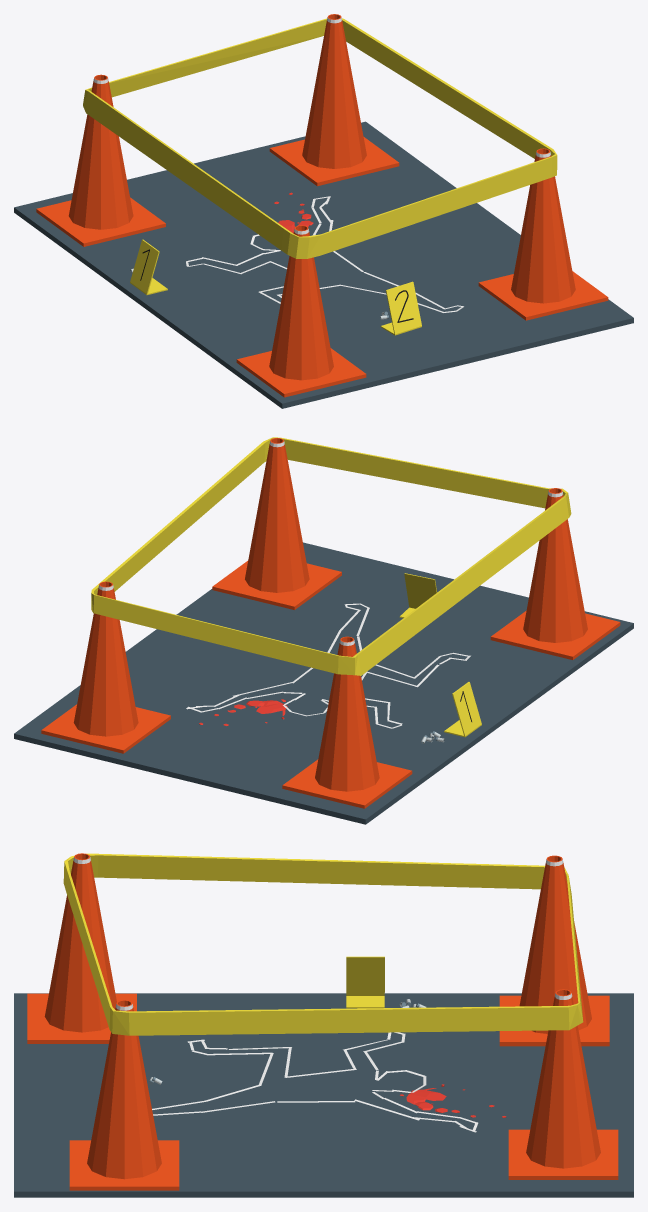
File: cubo19.gltf
The picture shows the model from 3 angles, top to bottom: view 1: azimuth 30°, elevation 25°; view 2: azimuth 150°, elevation 25°; view 3: azimuth 270°, elevation 25°; orthographic projection. The views are drawn at different scales.
Parts seen in each view (by area): view 1: Node; view 2: Node; view 3: Node.
Part boxes in pixels (<box>): Node: <box>14,14,633,408</box>; Node: <box>14,437,633,824</box>; Node: <box>14,853,633,1197</box>.
Size of the model in its own units: 0.5684 by 0.2272 by 0.7507.
